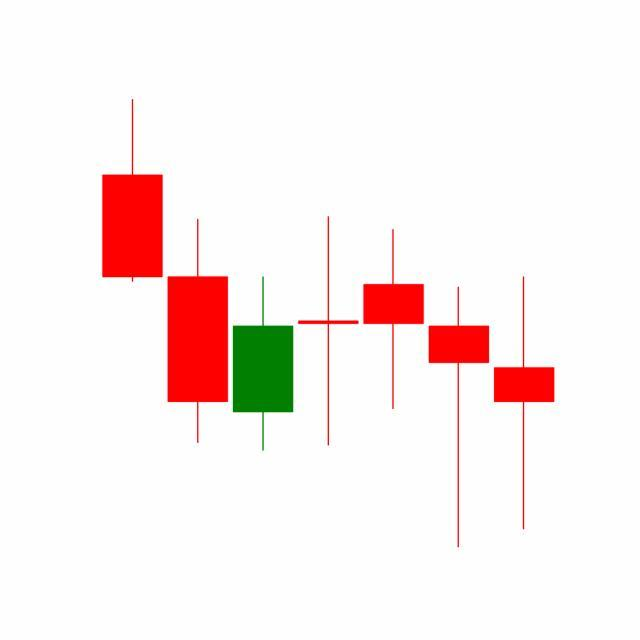Hikkake Pattern: (165, 212, 492, 548)
